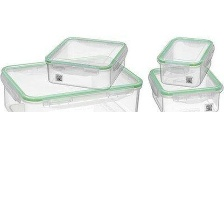plastic_box: (0, 51, 148, 112), (40, 30, 133, 93), (144, 62, 224, 112), (153, 30, 218, 91)
